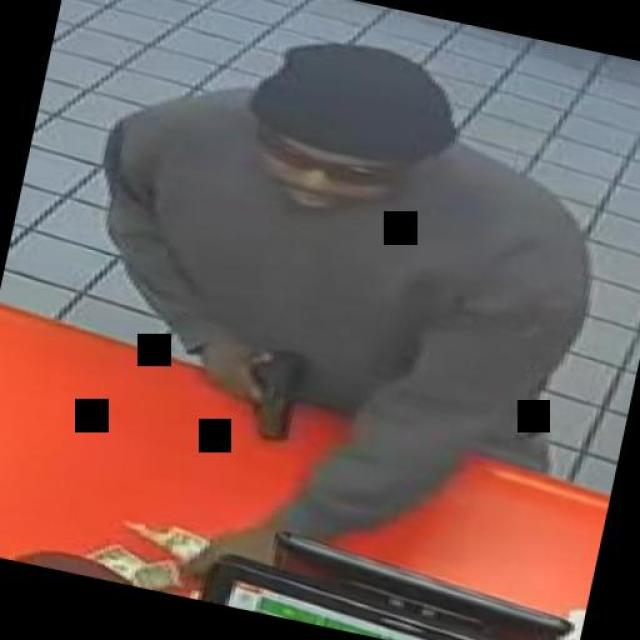gun: (191, 332, 310, 443)
